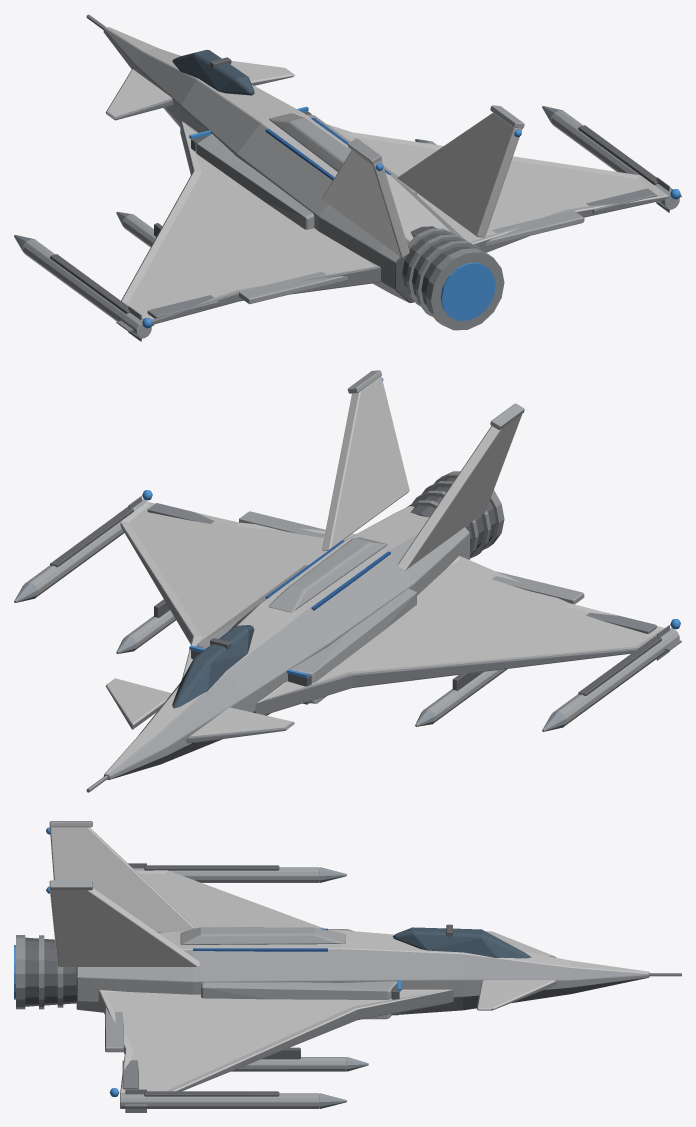
File: lattice_fighter.glb
3 renders of one model, top to bottom at view 1: azimuth 30°, elevation 25°; view 2: azimuth 150°, elevation 25°; view 3: azimuth 270°, elevation 25°, orthographic. The views are drawn at different scales.
Parts seen in each view (by area): view 1: Body; view 2: Body; view 3: Body.
Part boxes in pixels (x1,y1,x2,y2): Body: [14, 14, 681, 341]; Body: [14, 370, 681, 792]; Body: [14, 821, 681, 1112].
Bounding box in the file's own units: 2.07 × 0.669 × 2.47.
